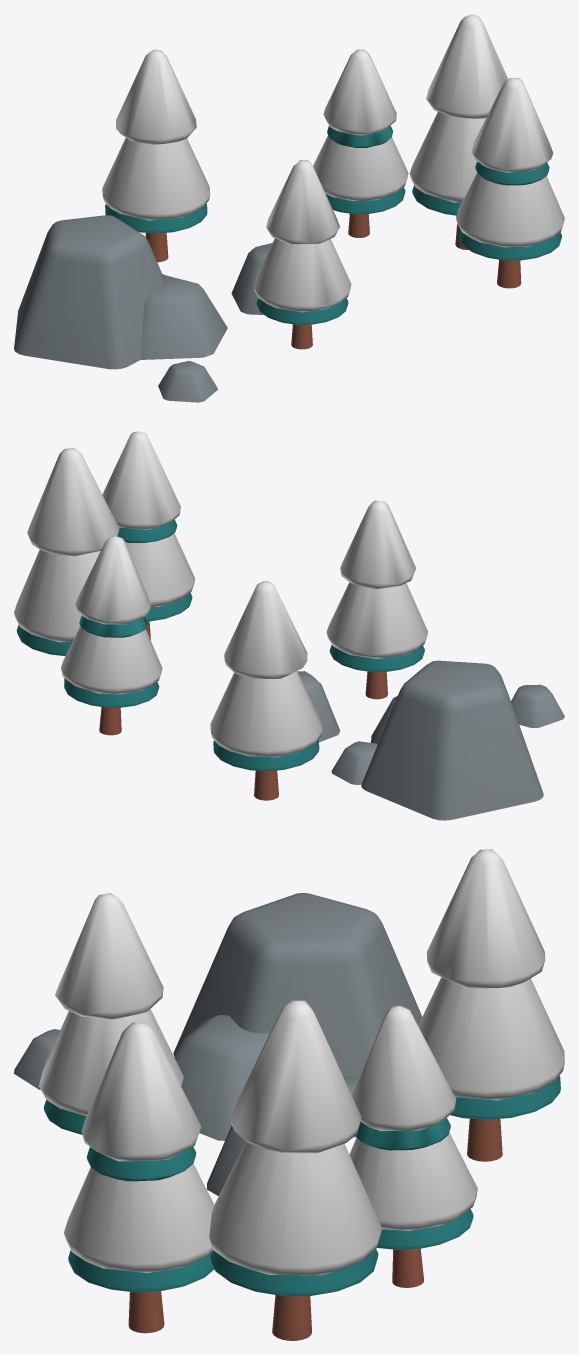
File: detail_forestA_snow.gltf.glb
3 views of the same model, one above another, from view 1: azimuth 30°, elevation 25°; view 2: azimuth 150°, elevation 25°; view 3: azimuth 270°, elevation 25° (orthographic). The views are drawn at different scales.
Visible parts, largest first — view 1: detail_forestA_snow; view 2: detail_forestA_snow; view 3: detail_forestA_snow.
Part boxes in pixels (x1,y1,x2,y2): detail_forestA_snow: (14,14,564,402); detail_forestA_snow: (14,431,564,820); detail_forestA_snow: (14,849,564,1340).
Size of the model in its own units: 1.85 by 0.7983 by 1.19.
